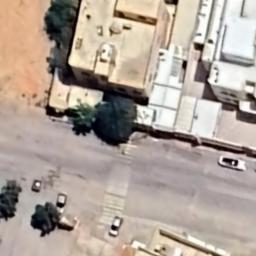sedan: (215, 153, 248, 173), (108, 213, 124, 237), (54, 190, 68, 214)
